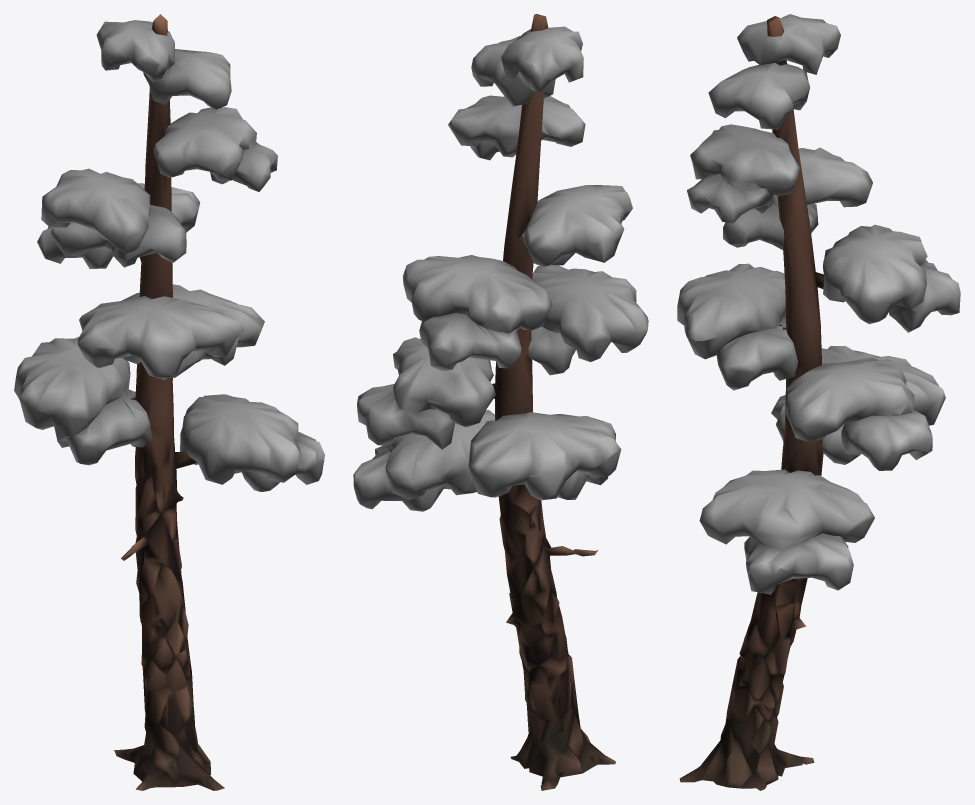
The model's file is pine_b.glb.
3 views of the same model, side by side, from view 1: azimuth 30°, elevation 25°; view 2: azimuth 150°, elevation 25°; view 3: azimuth 270°, elevation 25° (orthographic).
Parts seen in each view (by area): view 1: pine_b_LOD0; view 2: pine_b_LOD0; view 3: pine_b_LOD0.
Part boxes in pixels (x1,y1,x2,y2): pine_b_LOD0: [14, 14, 324, 790]; pine_b_LOD0: [353, 14, 648, 790]; pine_b_LOD0: [677, 14, 960, 790].
Size of what is drawn, in the model's own units: 4.06 by 10.86 by 3.68.
